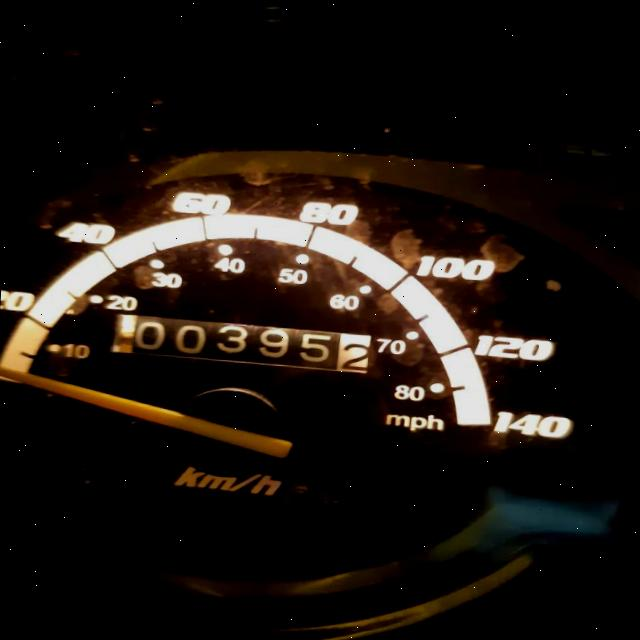odometer: (104, 308, 379, 378)
